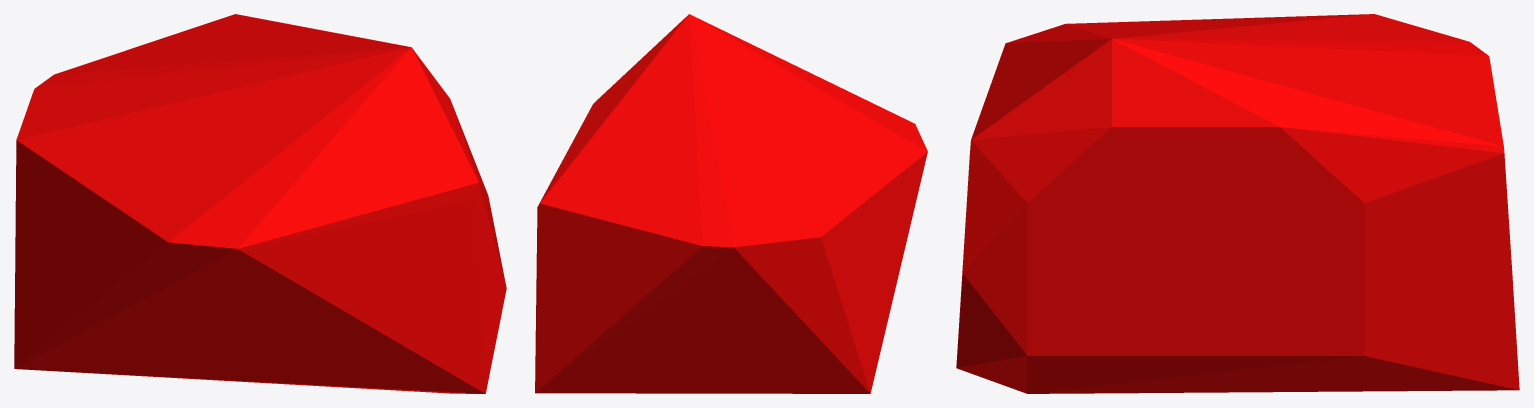
The model's file is tip_006_1_convex_hull_06.obj.
3 renders of one model, left to right at view 1: azimuth 30°, elevation 25°; view 2: azimuth 150°, elevation 25°; view 3: azimuth 270°, elevation 25°, orthographic. The views are drawn at different scales.
Visible parts, largest first — view 1: tip_006_1_convex_hull_06; view 2: tip_006_1_convex_hull_06; view 3: tip_006_1_convex_hull_06.
Boxes of the visible parts, left/top/right/bottom form: tip_006_1_convex_hull_06: left=14, top=14, right=506, bottom=393; tip_006_1_convex_hull_06: left=535, top=14, right=927, bottom=393; tip_006_1_convex_hull_06: left=956, top=14, right=1519, bottom=393.
Bounding box in the file's own units: 0.00157 × 0.00139 × 0.002.
